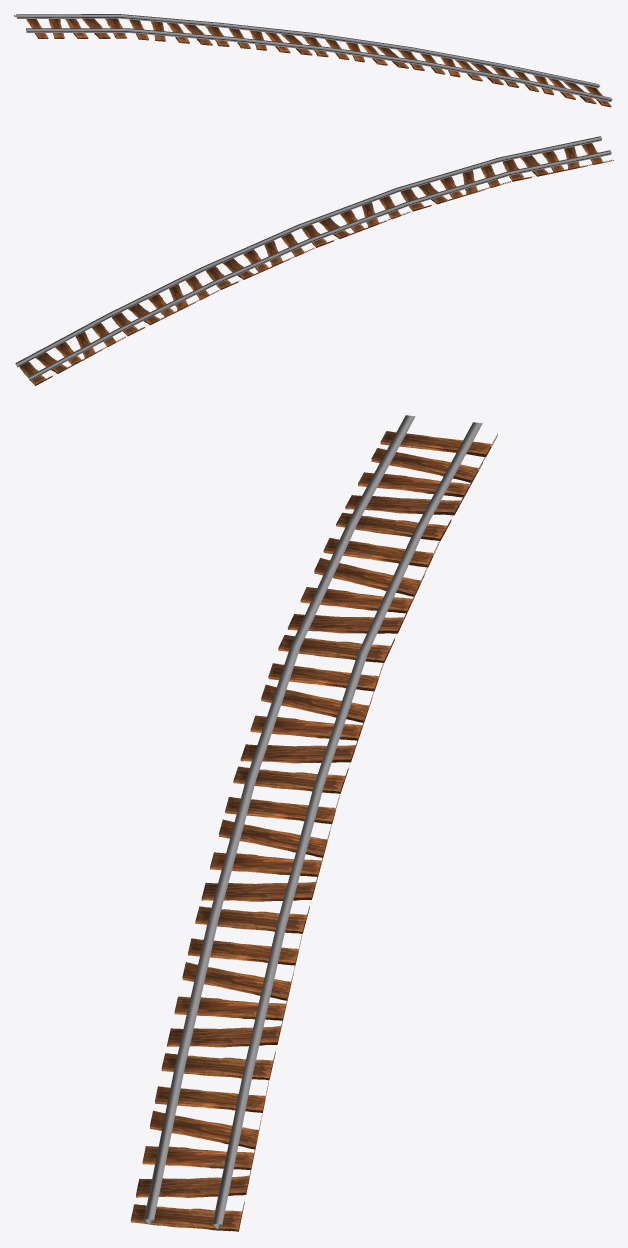
The model's file is SWORDLIGHT20_TRACK9.fbx.
The picture shows the model from 3 angles, top to bottom: view 1: azimuth 30°, elevation 25°; view 2: azimuth 210°, elevation 25°; view 3: azimuth 270°, elevation 25°; orthographic projection. The views are drawn at different scales.
Visible parts, largest first — view 1: SWORDLIGHT20_TRACK9; view 2: SWORDLIGHT20_TRACK9; view 3: SWORDLIGHT20_TRACK9.
Part boxes in pixels (left/top/right/bottom): SWORDLIGHT20_TRACK9: left=14, top=14, right=612, bottom=107; SWORDLIGHT20_TRACK9: left=15, top=136, right=613, bottom=385; SWORDLIGHT20_TRACK9: left=130, top=415, right=497, bottom=1231.
Size of the model in its own units: 180206 by 50066 by 54453.
2 materials, 2 textured.
